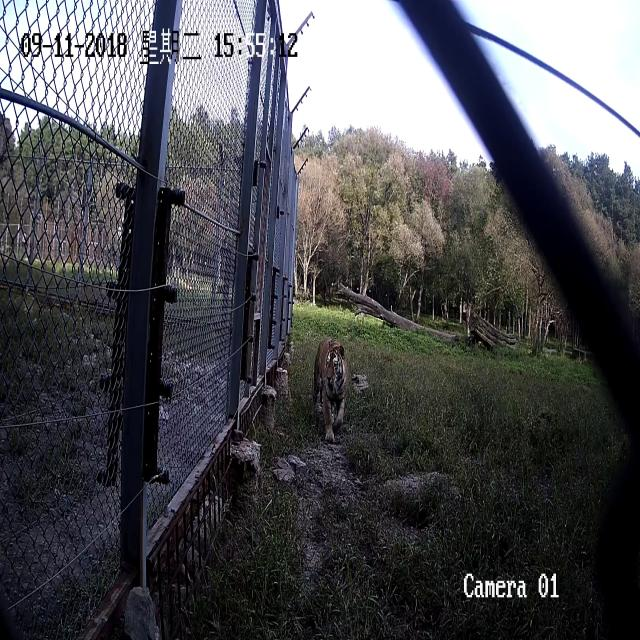Tiger: (312, 335, 347, 444)
